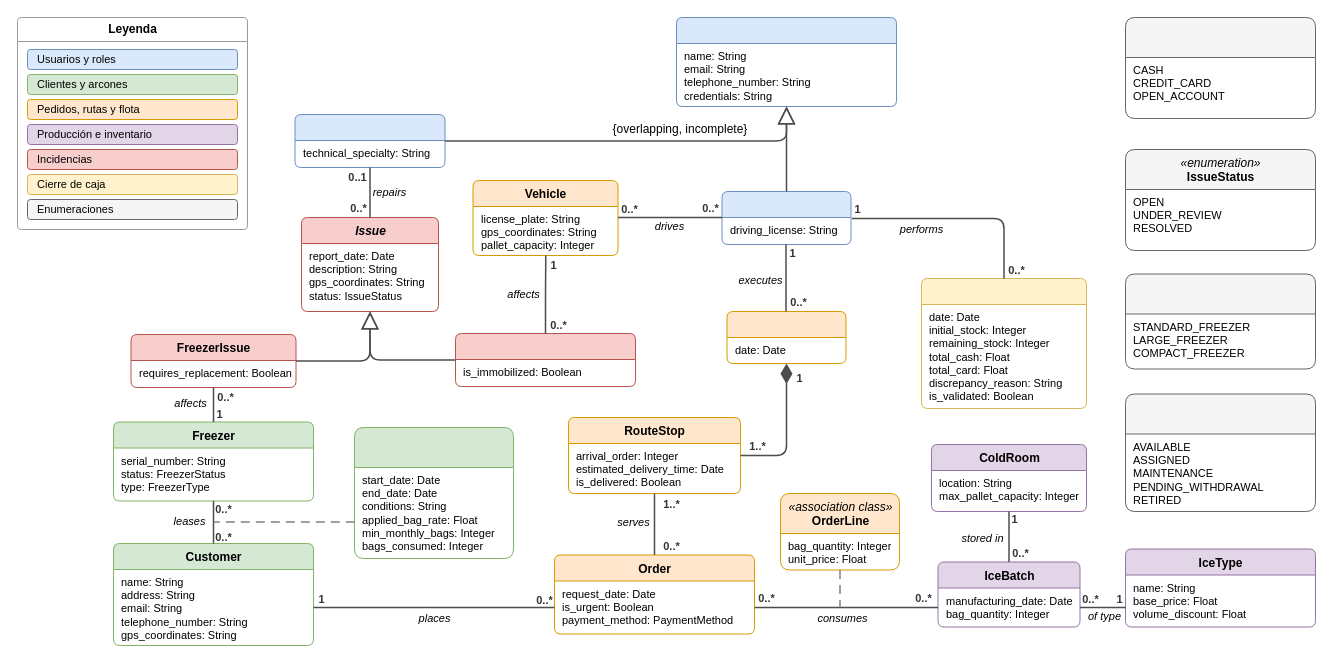
Some shapes in this 1333 by 666 pixel diagram are drawn without their labels. Each missing label, with the box of its shape:
DeliveryDriver: (721, 190, 851, 244)
DigitalCashClosing: (920, 278, 1086, 408)
MaintenanceTech: (294, 114, 445, 168)
Route: (726, 310, 846, 364)
User: (676, 16, 896, 106)
VehicleIssue: (454, 332, 636, 386)
«association class» AssignmentContract: (354, 426, 514, 558)
«enumeration» FreezerStatus: (1124, 393, 1316, 512)
«enumeration» FreezerType: (1124, 273, 1316, 369)
«enumeration» PaymentMethod: (1124, 16, 1316, 118)
